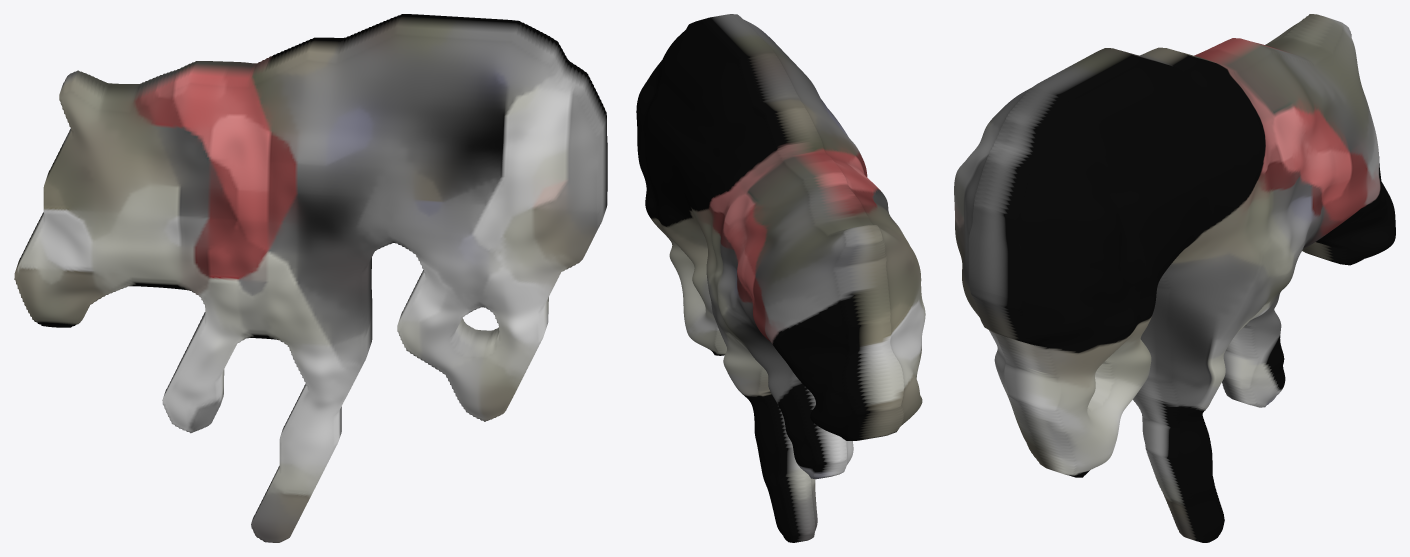
Rendered from soviet_attack_dog.glb.
3 views of the same model, side by side, from view 1: azimuth 30°, elevation 25°; view 2: azimuth 150°, elevation 25°; view 3: azimuth 270°, elevation 25° (orthographic). The views are drawn at different scales.
Parts seen in each view (by area): view 1: soviet_attack_dog; view 2: soviet_attack_dog; view 3: soviet_attack_dog.
Boxes of the visible parts, box(x1,y1,x2,y2) form: soviet_attack_dog: box(14, 14, 607, 542); soviet_attack_dog: box(636, 14, 925, 542); soviet_attack_dog: box(954, 14, 1395, 542).
Size of the model in its own units: 1.7 by 1.95 by 1.47.
